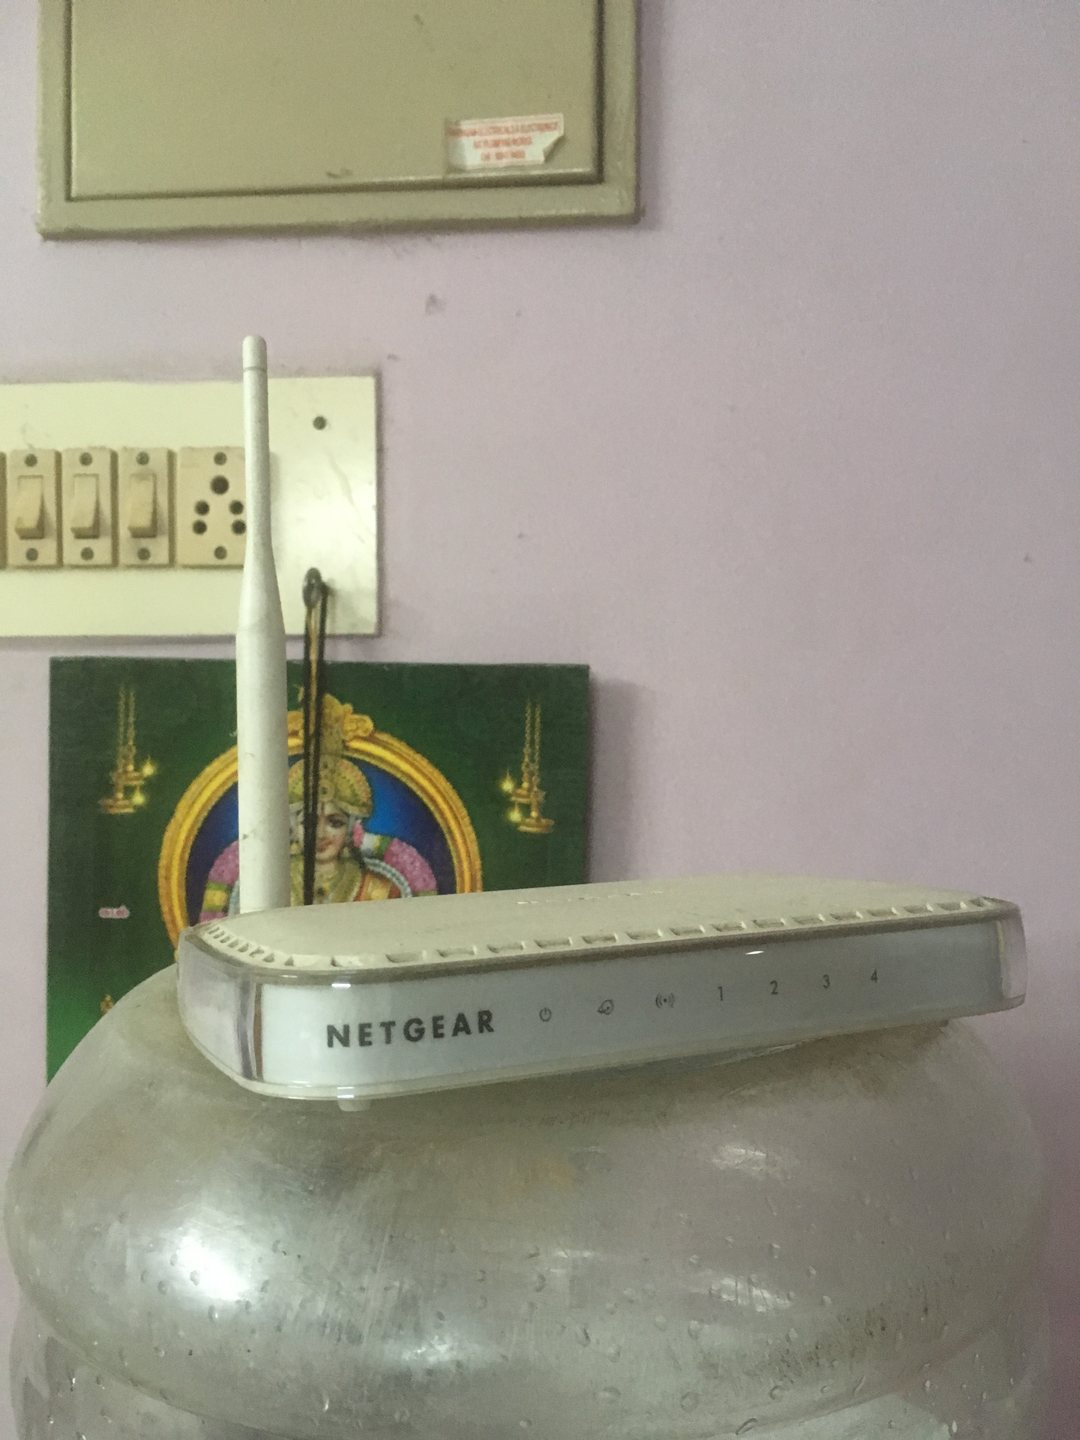NETGEAR: (321, 1003, 504, 1067)
modem: (231, 893, 1044, 1102)
